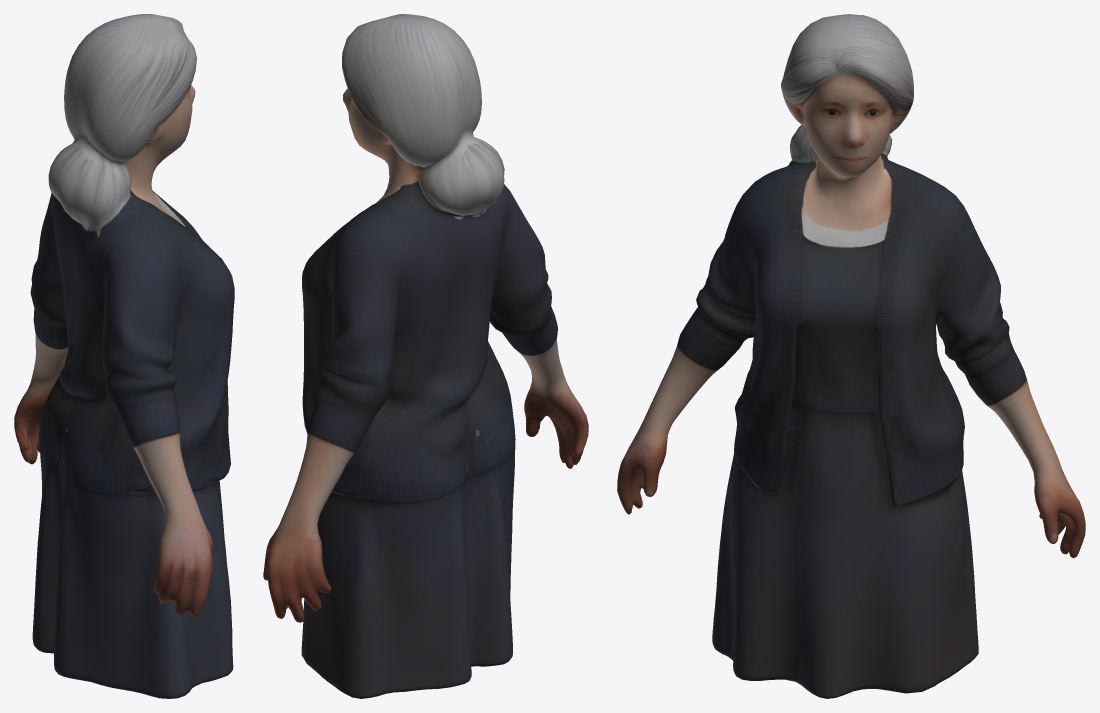
File: suspect_1.glb
3 views of the same model, side by side, from view 1: azimuth 30°, elevation 25°; view 2: azimuth 150°, elevation 25°; view 3: azimuth 270°, elevation 25° (orthographic). The views are drawn at different scales.
Parts seen in each view (by area): view 1: tripo_node_c1c7da09-9735-452e-a23d-4295c9bde556; view 2: tripo_node_c1c7da09-9735-452e-a23d-4295c9bde556; view 3: tripo_node_c1c7da09-9735-452e-a23d-4295c9bde556.
Boxes of the visible parts, left/top/right/bottom form: tripo_node_c1c7da09-9735-452e-a23d-4295c9bde556: left=14, top=14, right=234, bottom=698; tripo_node_c1c7da09-9735-452e-a23d-4295c9bde556: left=263, top=14, right=588, bottom=698; tripo_node_c1c7da09-9735-452e-a23d-4295c9bde556: left=617, top=14, right=1085, bottom=698.
Bounding box in the file's own units: 0.2882 × 0.9987 × 0.6648.
Materials: 1 (1 with a texture image).
